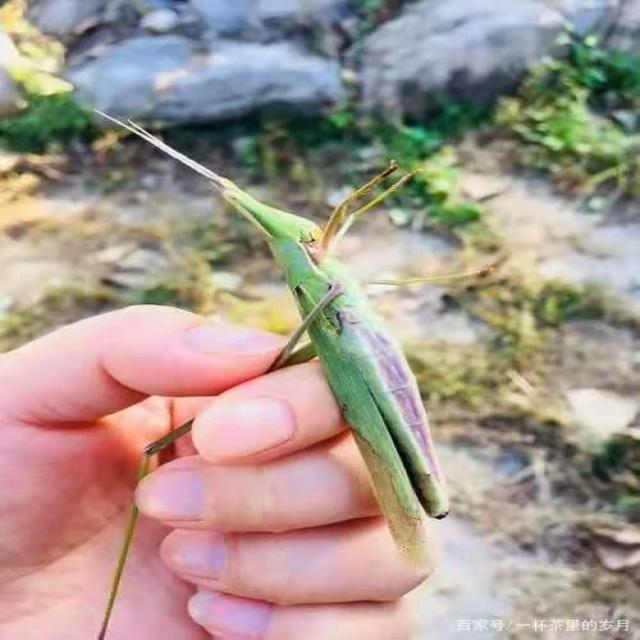ZhaMeng: (83, 94, 476, 543)
